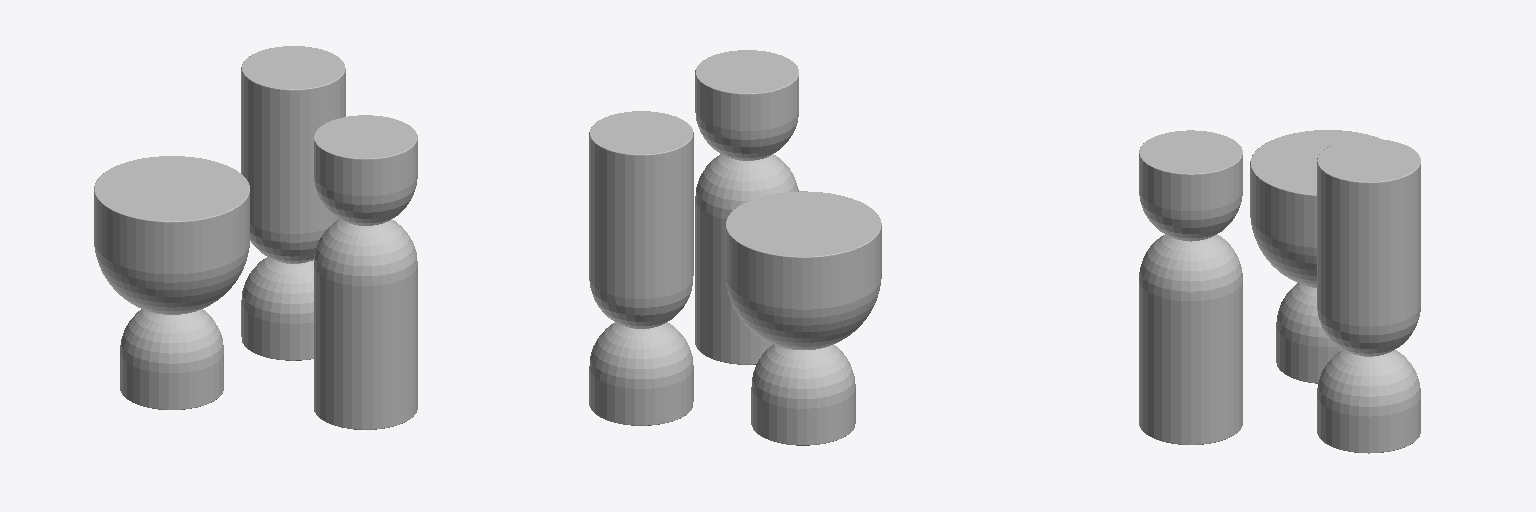
File: table.obj
3 renders of one model, left to right at view 1: azimuth 30°, elevation 25°; view 2: azimuth 150°, elevation 25°; view 3: azimuth 270°, elevation 25°, orthographic.
Visible parts, largest first — view 1: Jaime_Hayon_Table_Time_Piece_00, Jaime_Hayon_Table_Time_Piece_01, Jaime_Hayon_Table_Time_Piece_02; view 2: Jaime_Hayon_Table_Time_Piece_02, Jaime_Hayon_Table_Time_Piece_01, Jaime_Hayon_Table_Time_Piece_00; view 3: Jaime_Hayon_Table_Time_Piece_02, Jaime_Hayon_Table_Time_Piece_00, Jaime_Hayon_Table_Time_Piece_01.
Boxes of the visible parts, x1=… form: Jaime_Hayon_Table_Time_Piece_00: x1=314, y1=115, x2=417, y2=429; Jaime_Hayon_Table_Time_Piece_01: x1=94, y1=156, x2=249, y2=409; Jaime_Hayon_Table_Time_Piece_02: x1=241, y1=46, x2=345, y2=360; Jaime_Hayon_Table_Time_Piece_02: x1=589, y1=111, x2=693, y2=425; Jaime_Hayon_Table_Time_Piece_01: x1=725, y1=191, x2=881, y2=445; Jaime_Hayon_Table_Time_Piece_00: x1=695, y1=50, x2=798, y2=364; Jaime_Hayon_Table_Time_Piece_02: x1=1317, y1=139, x2=1420, y2=453; Jaime_Hayon_Table_Time_Piece_00: x1=1139, y1=130, x2=1242, y2=444; Jaime_Hayon_Table_Time_Piece_01: x1=1250, y1=130, x2=1379, y2=383.
Bounding box in the file's own units: 56.29 × 57.34 × 54.09.